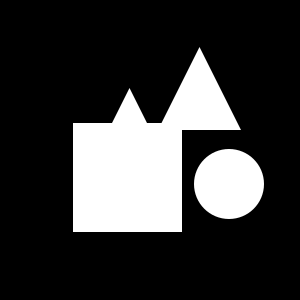circle: (73, 123, 182, 232), (124, 144, 181, 201)
rectangle: (194, 149, 264, 219)
triangle: (158, 47, 241, 130), (95, 88, 164, 157)
